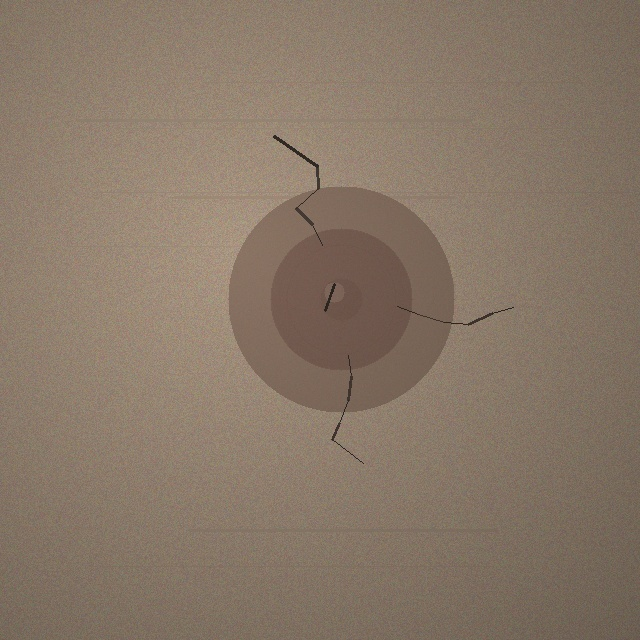crack: (228, 186, 454, 412)
